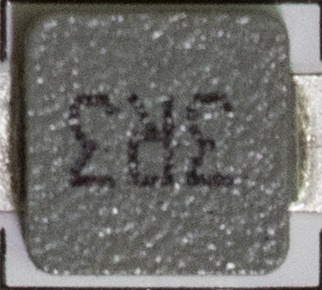Induktor: (7, 3, 307, 277)
